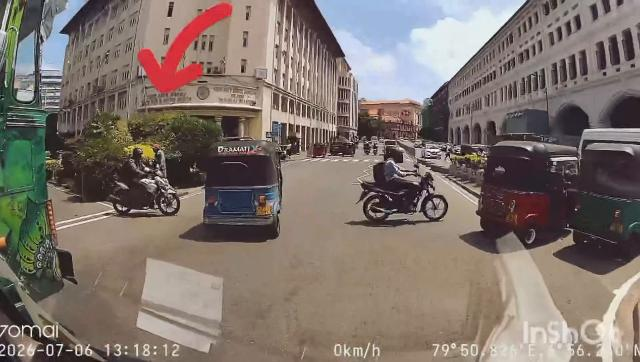number plate: (502, 210, 525, 230)
